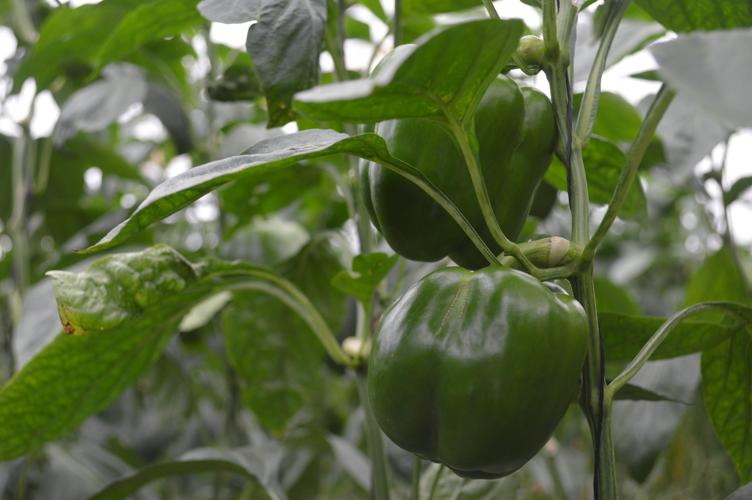BellPepper: (341, 276, 583, 489), (341, 49, 552, 271)
